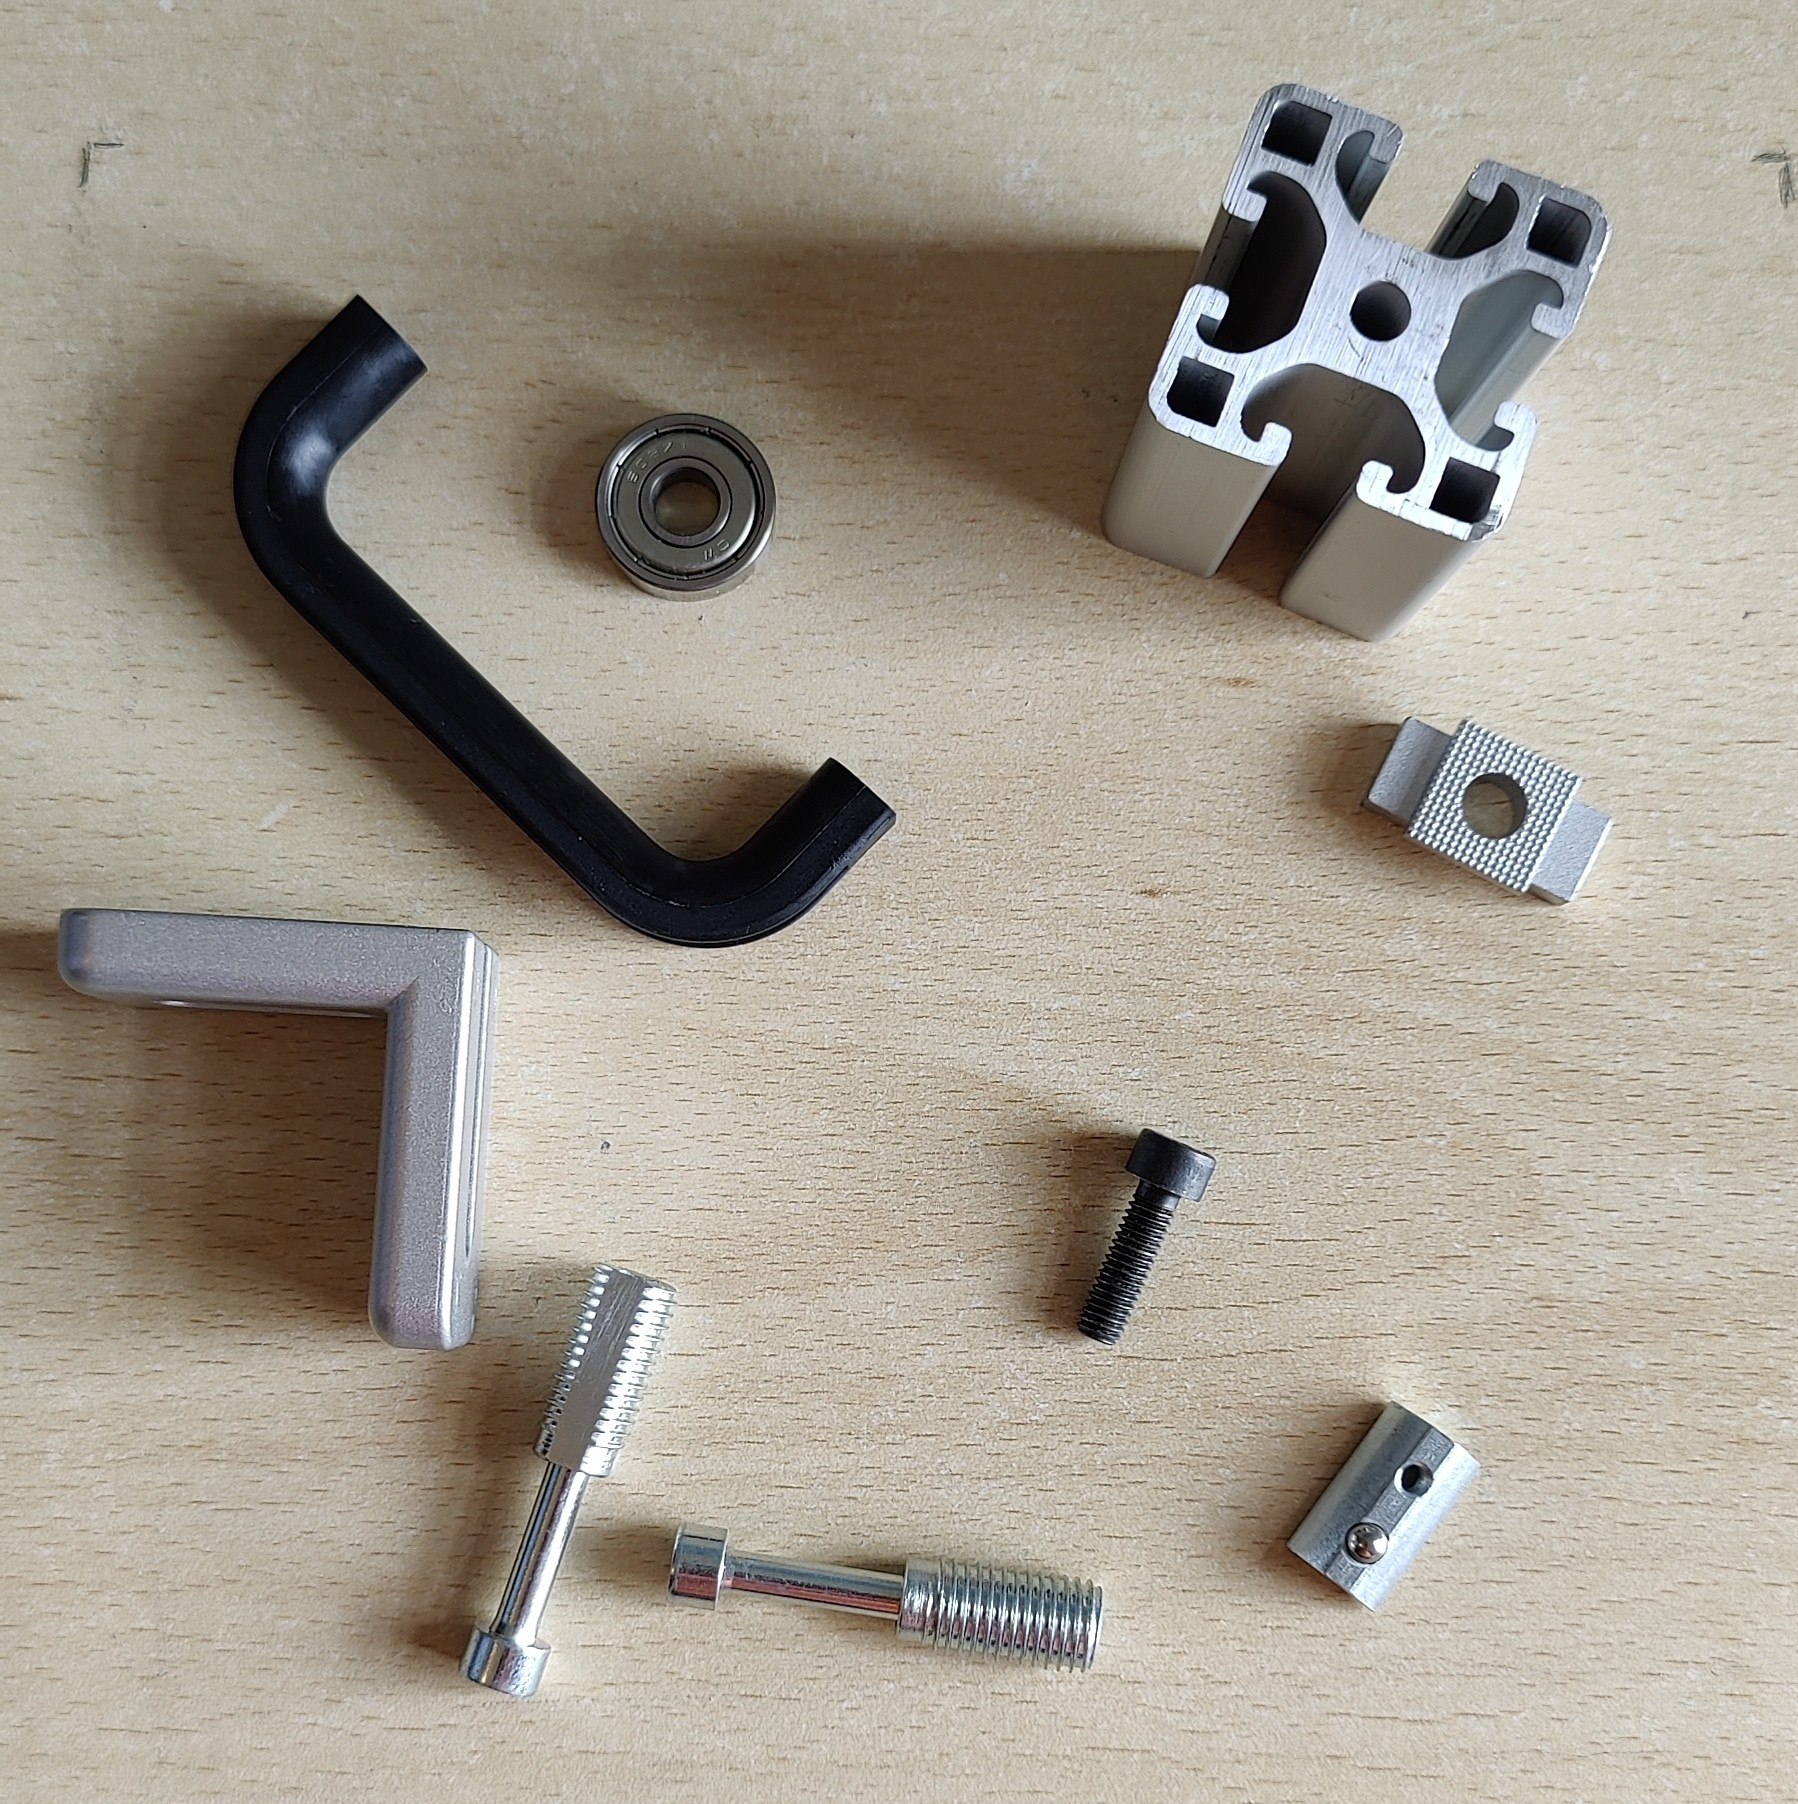Aluminium Extension: (1098, 79, 1614, 645)
Ball Bearing: (593, 408, 779, 604)
Multiwinkel: (54, 900, 502, 1355)
Pull Handle: (229, 288, 897, 951)
Shoulder Socket Head Cap Screw: (454, 1259, 682, 1700), (660, 1516, 1106, 1677)
Socket Head Cap Screw: (1070, 1123, 1222, 1348)
T Nut Square: (1358, 714, 1619, 910)
T Spring Nut: (1284, 1393, 1484, 1615)
